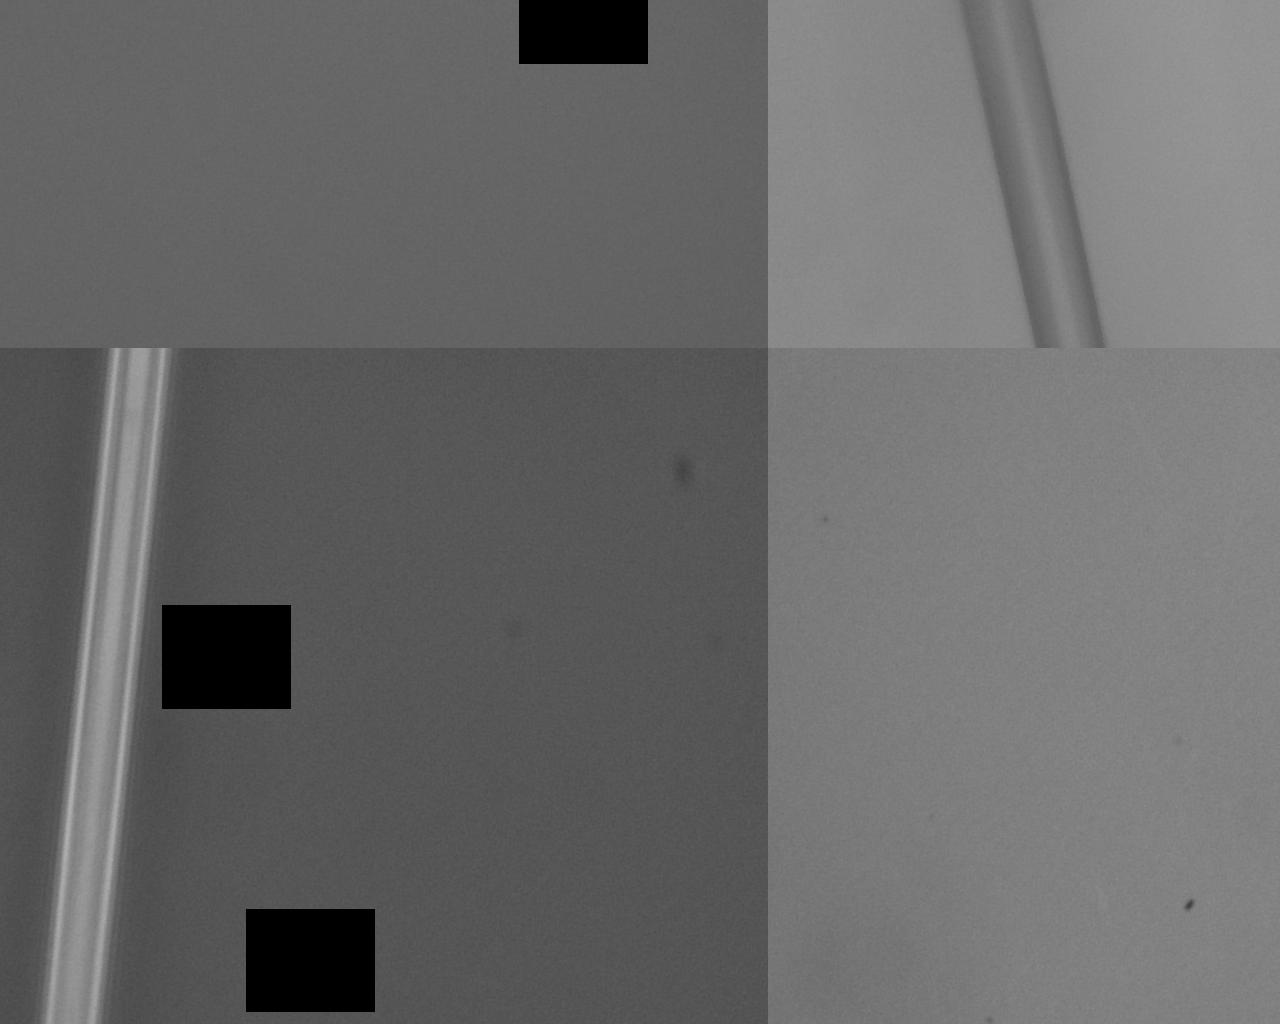fiber: (677, 0, 778, 1024)
